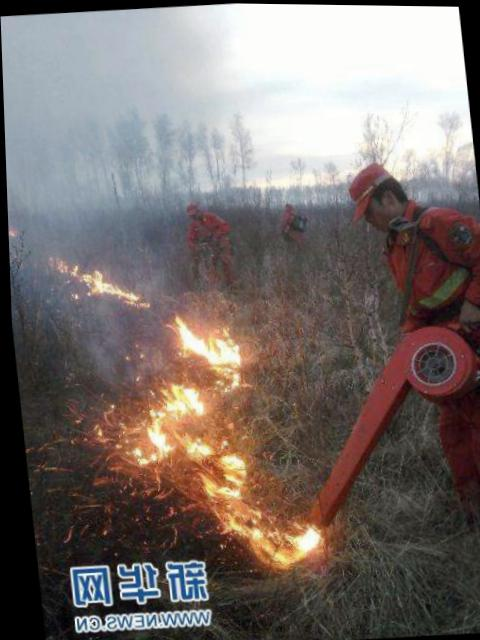fire: (86, 301, 323, 575), (42, 239, 149, 308)
